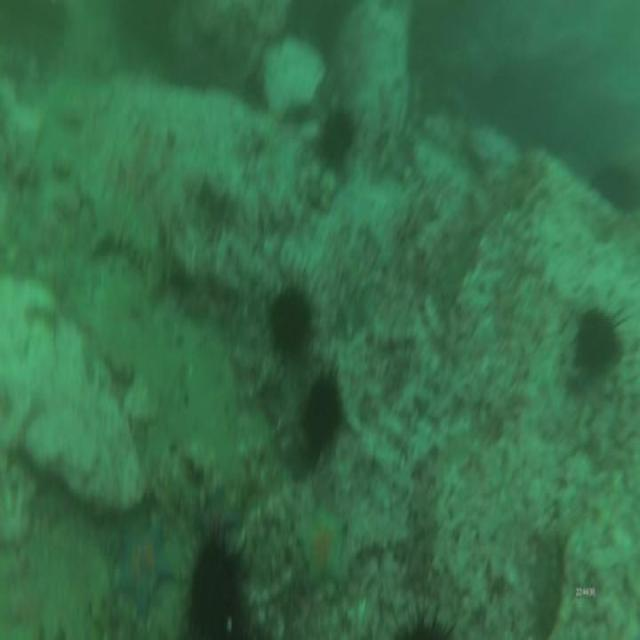echinus: (182, 531, 256, 640), (570, 297, 628, 384), (267, 275, 317, 365), (301, 366, 344, 464), (386, 589, 461, 640), (589, 160, 640, 224), (316, 106, 356, 169)
holothurian: (92, 221, 167, 299)
starfish: (111, 511, 174, 616), (297, 501, 352, 596), (194, 485, 244, 542)
